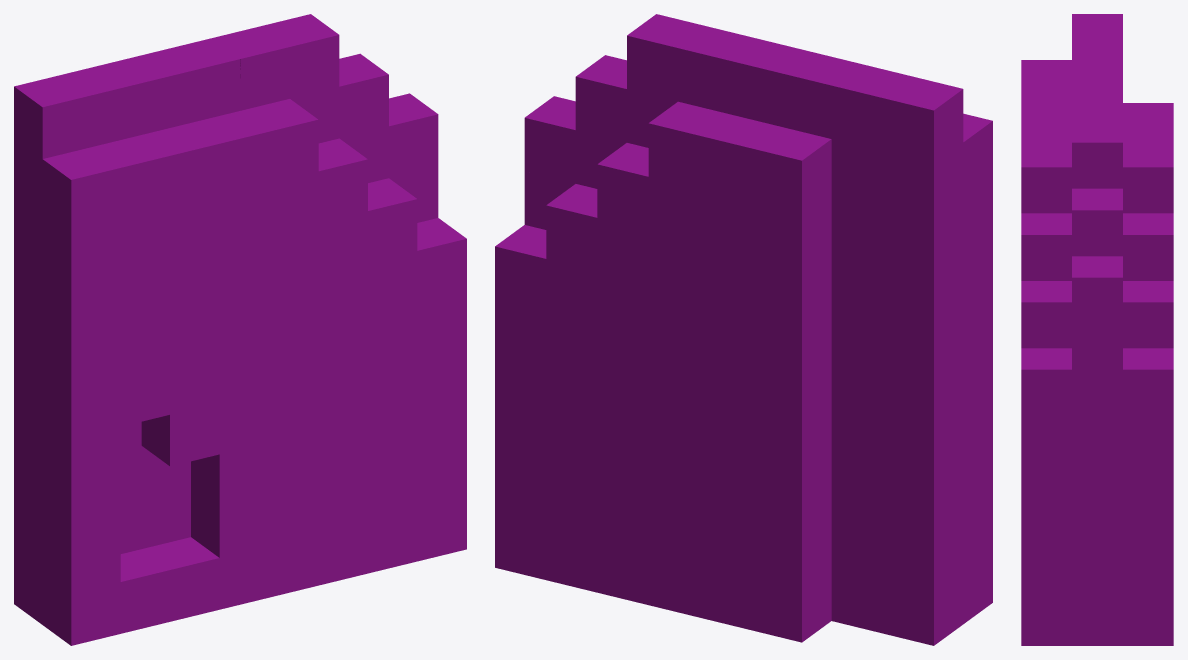
Rendered from rat-ear-joined.fbx.
3 renders of one model, left to right at view 1: azimuth 30°, elevation 25°; view 2: azimuth 150°, elevation 25°; view 3: azimuth 270°, elevation 25°, orthographic. The views are drawn at different scales.
Parts seen in each view (by area): view 1: ear; view 2: ear; view 3: ear.
Part boxes in pixels (x1,y1,x2,y2): ear: [14, 14, 466, 645]; ear: [495, 14, 992, 645]; ear: [1021, 14, 1173, 645].
Size of the model in its own units: 54.19 by 67.74 by 20.32.
